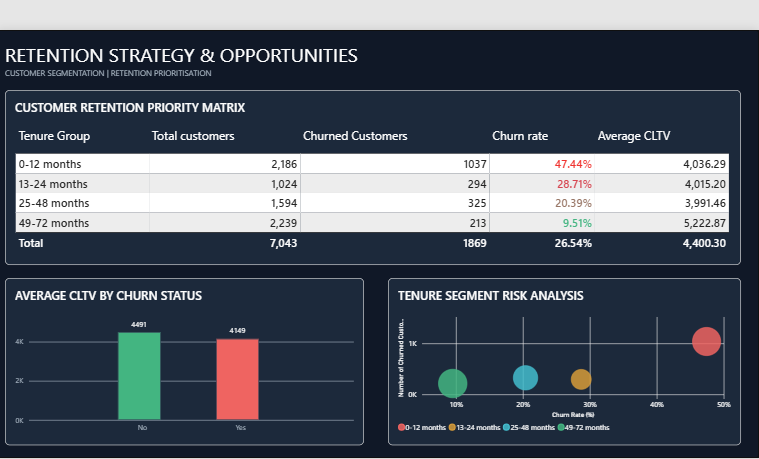

The dashboard page shown, as its layout file describes it:
{"tool":"powerbi","page":{"name":"Retention Strategy & Opportunities","canvas":[1280,720],"ordinal":2},"visuals":[{"type":"textbox","title":"RETENTION STRATEGY & OPPORTUNITIES","box":[13.4,18.5,1171,65],"z":0},{"type":"tableEx","title":"CUSTOMER RETENTION PRIORITY MATRIX","fields":{"Values":["telco_churn_cleaned.Tenure Group","telco_churn_cleaned.Total customers","telco_churn_cleaned.Churned Customers","telco_churn_cleaned.Churn rate","telco_churn_cleaned.Average CLTV"]},"box":[13.4,100.8,1236.3,294],"z":1000},{"type":"clusteredColumnChart","title":"AVERAGE CLTV BY CHURN STATUS","fields":{"Category":["telco_churn_cleaned.Churn Label"],"Y":["telco_churn_cleaned.Average CLTV"]},"box":[13.4,416.6,603,280.5],"z":2000},{"type":"scatterChart","title":"TENURE SEGMENT RISK ANALYSIS","fields":{"Series":["telco_churn_cleaned.Tenure Group"],"Size":["telco_churn_cleaned.Total customers"],"X":["telco_churn_cleaned.Churn rate"],"Y":["telco_churn_cleaned.Churned Customers"]},"box":[656.8,416.6,593,280.5],"z":3000}]}

Visuals, with their boxes on the page's 1280x720 design canvas (x1, y1, x2, y2). These are canvas units, not pixel positions in the 759x459 screenshot, which may show the page scaled, cropped or inside an application window:
"RETENTION STRATEGY & OPPORTUNITIES" textbox: box(13, 18, 1184, 84)
"CUSTOMER RETENTION PRIORITY MATRIX" tableEx: box(13, 101, 1250, 395)
"AVERAGE CLTV BY CHURN STATUS" clusteredColumnChart: box(13, 417, 616, 697)
"TENURE SEGMENT RISK ANALYSIS" scatterChart: box(657, 417, 1250, 697)
